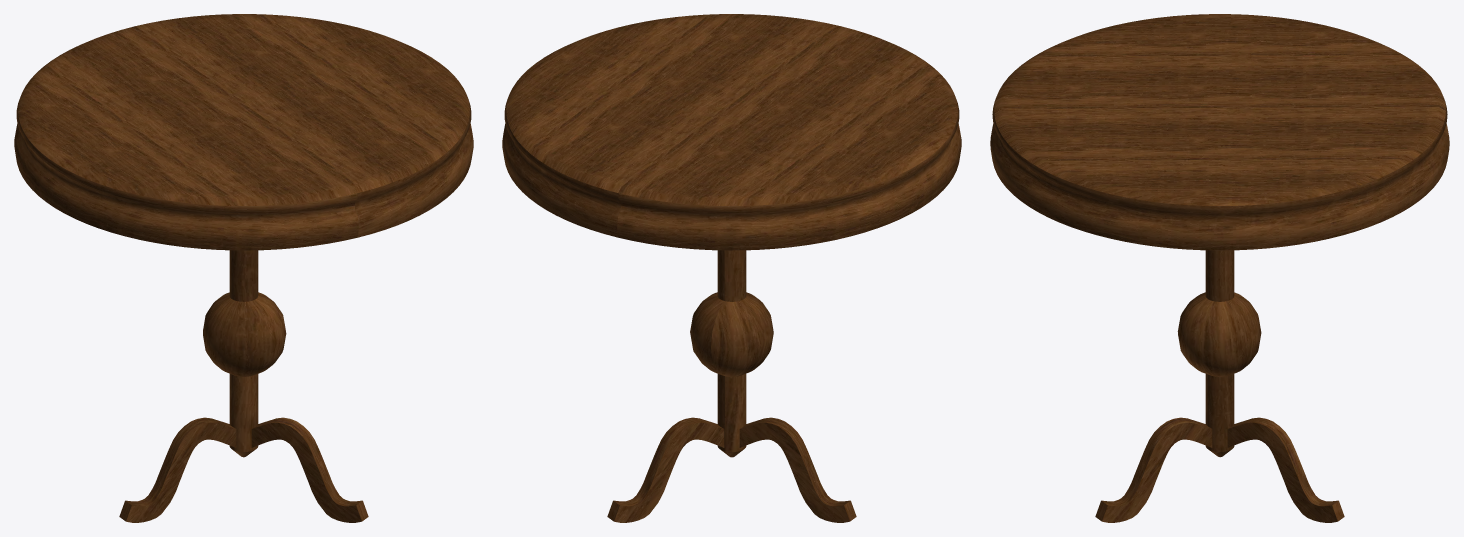
Rendered from table-transformed.glb.
The picture shows the model from 3 angles, left to right: view 1: azimuth 30°, elevation 25°; view 2: azimuth 150°, elevation 25°; view 3: azimuth 270°, elevation 25°; orthographic projection.
Parts seen in each view (by area): view 1: Table_Table_0; view 2: Table_Table_0; view 3: Table_Table_0.
Boxes of the visible parts, x1,y1,x2,y2 form: Table_Table_0: (14, 14, 473, 522); Table_Table_0: (502, 14, 961, 522); Table_Table_0: (990, 14, 1449, 522).
Size of the model in its own units: 7.14 by 6.65 by 7.14.
1 material, 1 textured.
